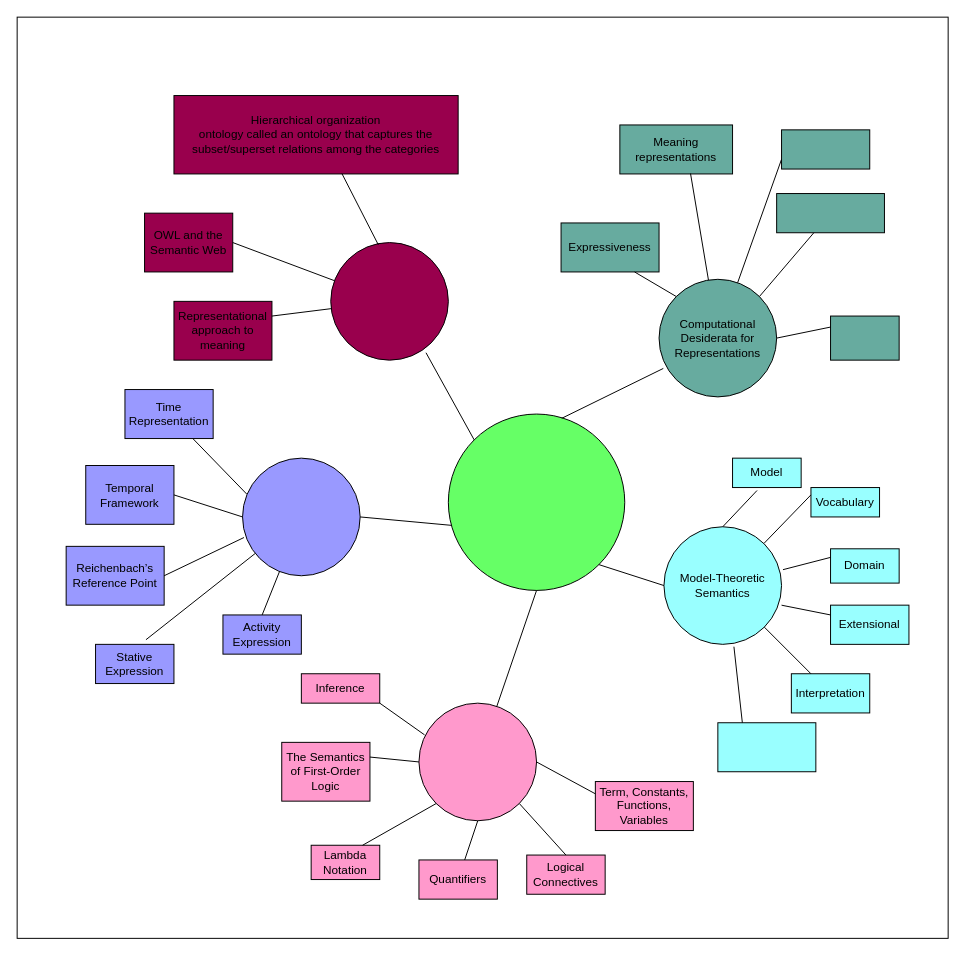
This 965x956 diagram has some shape labels left out. Here are the shapes that lost their labels. From the top down, the box of each, then its label:
(781, 129, 870, 169): Verifiability
(776, 193, 884, 233): Unambiguous Representations
(330, 242, 448, 360): Description Logics
(830, 315, 899, 360): Vagueness
(242, 457, 360, 576): Event and State Representations
(447, 413, 625, 590): Logical Representations of Sentence Meaning
(418, 702, 537, 821): First-Order Logic
(717, 722, 816, 772): Truth-conditional semantics
